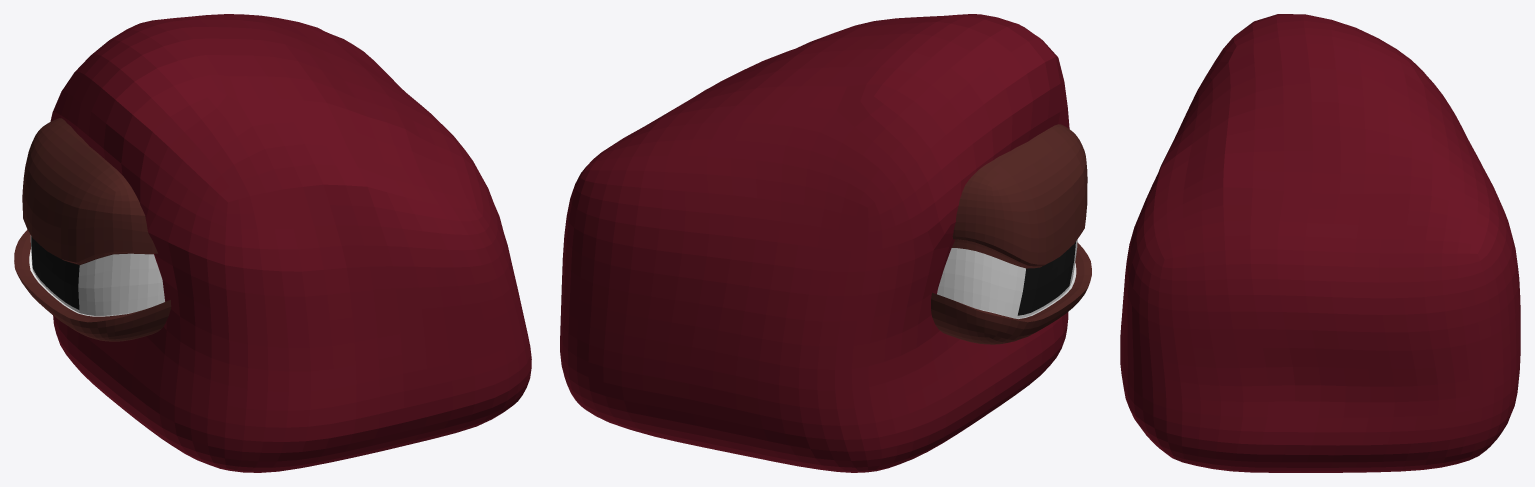
File: redeyeHD.fbx
3 renders of one model, left to right at view 1: azimuth 30°, elevation 25°; view 2: azimuth 150°, elevation 25°; view 3: azimuth 270°, elevation 25°, orthographic. The views are drawn at different scales.
Parts seen in each view (by area): view 1: Cube; view 2: Cube; view 3: Cube.
Part boxes in pixels (x1,y1,x2,y2): Cube: [14, 14, 531, 472]; Cube: [560, 14, 1091, 472]; Cube: [1120, 14, 1520, 472].
Bounding box in the file's own units: 206 × 186 × 193.
